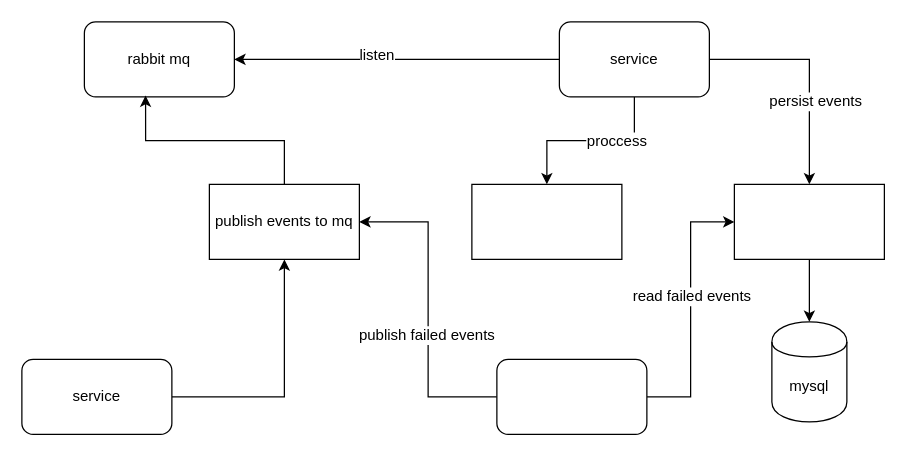
Some shapes in this 906 by 456 pixel diagram are drawn without their labels. The centre of each missing label's shape, as x and y in pixels:
"callback" belongs at point (546, 221).
"monitor service" belongs at point (571, 396).
"save to db" belongs at point (808, 221).
